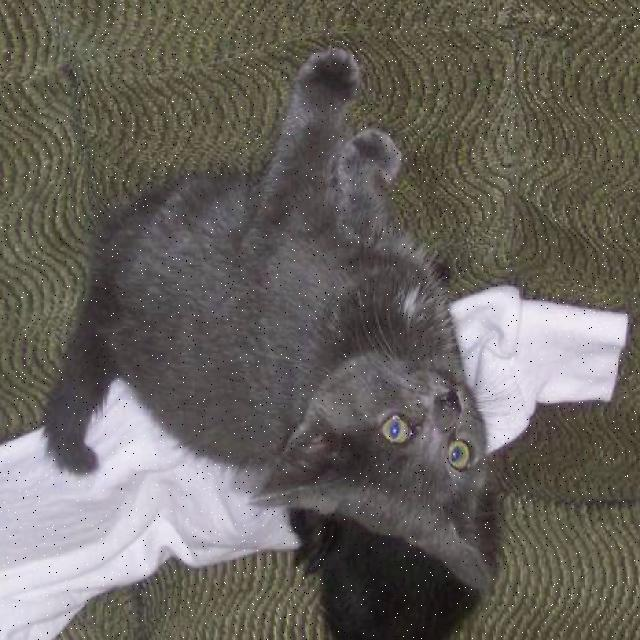Cat: (240, 340, 515, 604)
